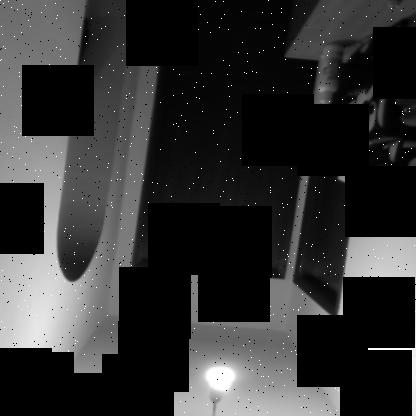Porte: (129, 1, 323, 281)
